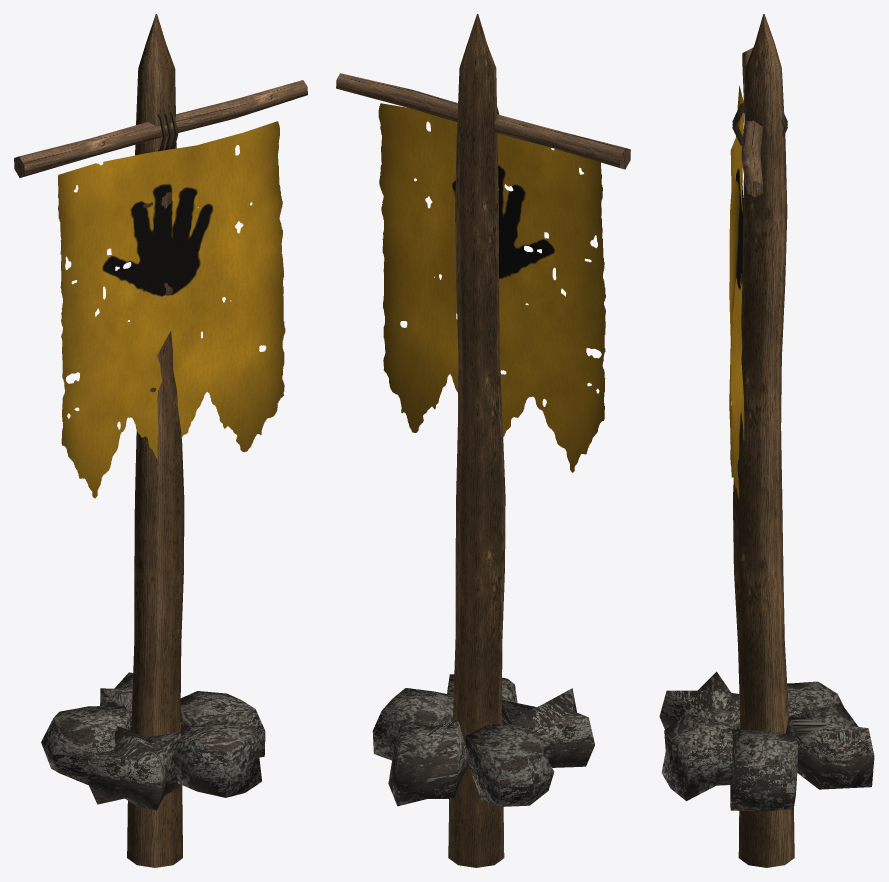
The model's file is SM_Bld_Player_Banner.gltf.
3 renders of one model, left to right at view 1: azimuth 30°, elevation 25°; view 2: azimuth 150°, elevation 25°; view 3: azimuth 270°, elevation 25°, orthographic.
Visible parts, largest first — view 1: SM_Bld_Player_Banner; view 2: SM_Bld_Player_Banner; view 3: SM_Bld_Player_Banner.
Part boxes in pixels (x1=…): SM_Bld_Player_Banner: x1=14, y1=14, x2=307, y2=867; SM_Bld_Player_Banner: x1=336, y1=14, x2=630, y2=867; SM_Bld_Player_Banner: x1=659, y1=14, x2=874, y2=867.
Size of the model in its own units: 1.7 by 4.8 by 1.11.
Materials: 5 (5 with a texture image).
